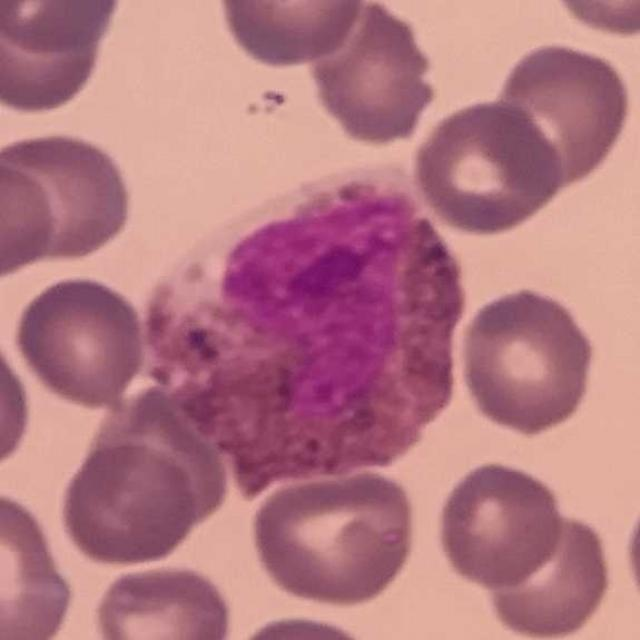Eosinophil: (122, 150, 496, 510)
RBC: (247, 465, 423, 610), (488, 37, 636, 196), (456, 282, 600, 438), (409, 95, 566, 238), (92, 385, 230, 537), (304, 0, 443, 149), (0, 125, 138, 267), (56, 437, 202, 570), (10, 272, 150, 409), (432, 456, 569, 591), (479, 508, 615, 640), (0, 0, 114, 119), (0, 484, 78, 640), (89, 558, 236, 640), (214, 0, 367, 70), (0, 151, 60, 286), (0, 0, 126, 57), (0, 323, 35, 481), (224, 610, 384, 640), (545, 0, 640, 40), (620, 484, 640, 624)
